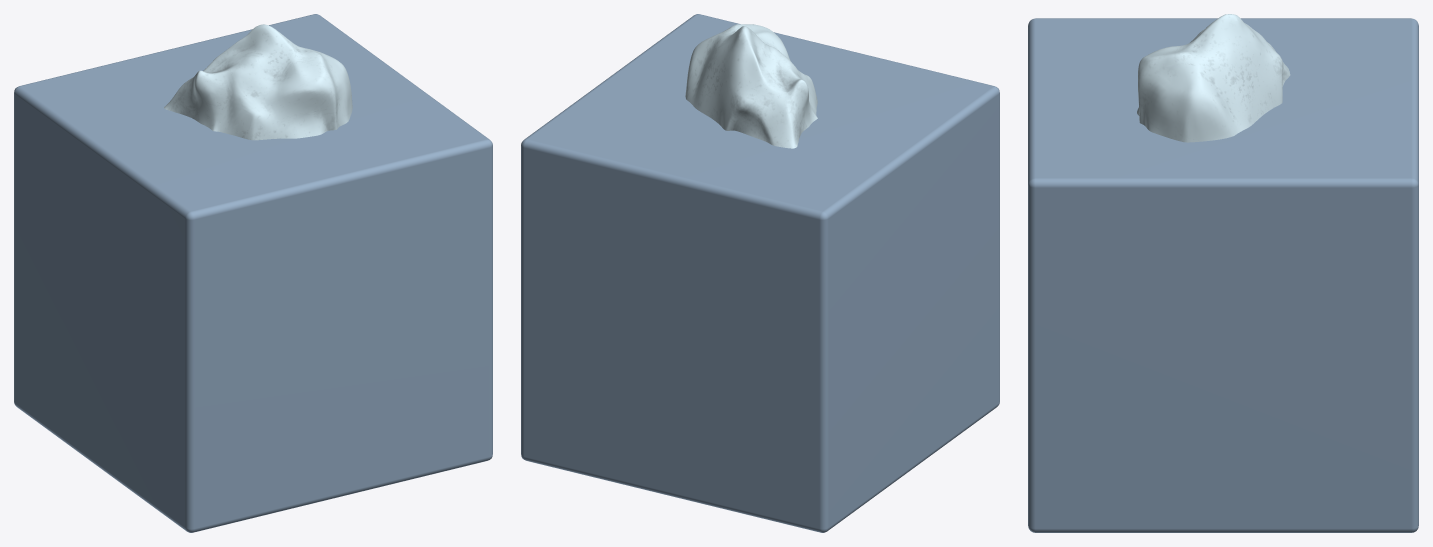
File: ice.gltf
3 renders of one model, left to right at view 1: azimuth 30°, elevation 25°; view 2: azimuth 150°, elevation 25°; view 3: azimuth 270°, elevation 25°, orthographic. The views are drawn at different scales.
Visible parts, largest first — view 1: pCube1, PM3D_Sphere3D; view 2: pCube1, PM3D_Sphere3D; view 3: pCube1, PM3D_Sphere3D.
Part boxes in pixels (<box>): pCube1: <box>14,14,492,532</box>; PM3D_Sphere3D: <box>164,24,352,140</box>; pCube1: <box>521,14,999,532</box>; PM3D_Sphere3D: <box>685,24,817,148</box>; pCube1: <box>1028,18,1418,532</box>; PM3D_Sphere3D: <box>1137,14,1290,142</box>.
Bounding box in the file's own units: 1.48 × 1.87 × 1.48.
Materials: 2 (1 with a texture image).
